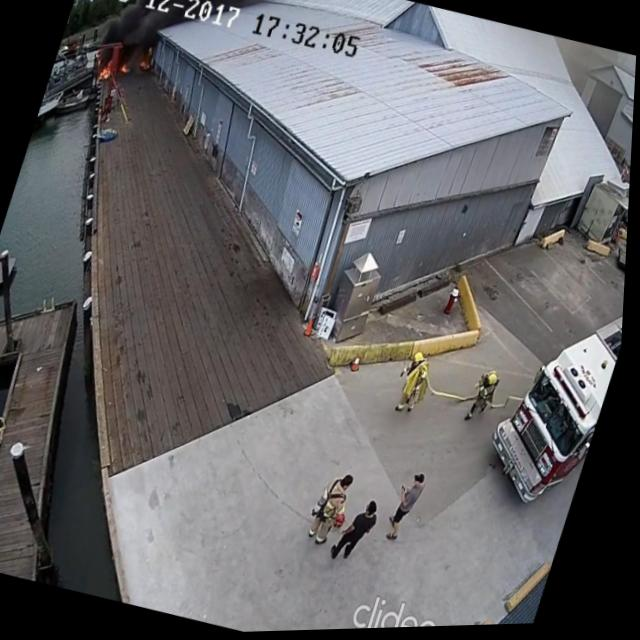fire: (85, 49, 119, 87), (136, 45, 157, 74), (117, 58, 134, 78)
